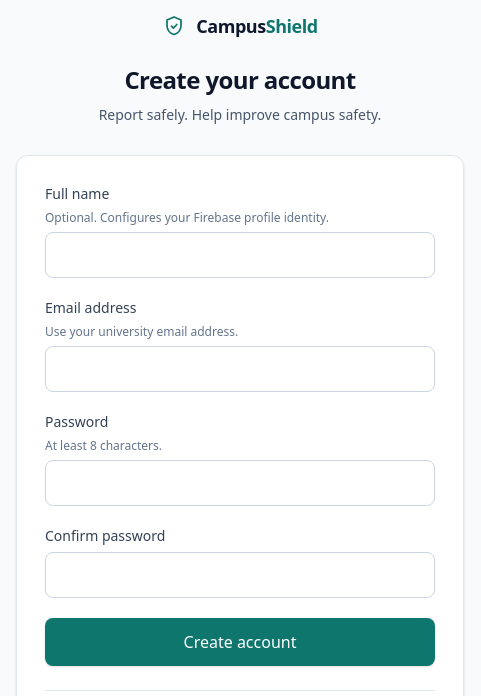
Test case: RegisterPage › blocks submission and shows errors when empty
Click the button "Create account". click: (240, 642)
box: top-left (45, 618), bottom-right (435, 666)
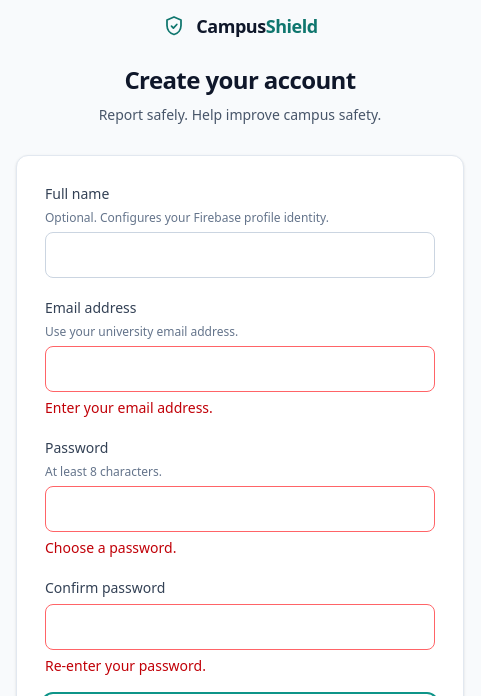
Result: the text "Enter your email address." is shown at top-left (45, 398), bottom-right (213, 417)
Result: the text "Choose a password." is shown at top-left (45, 538), bottom-right (176, 557)
